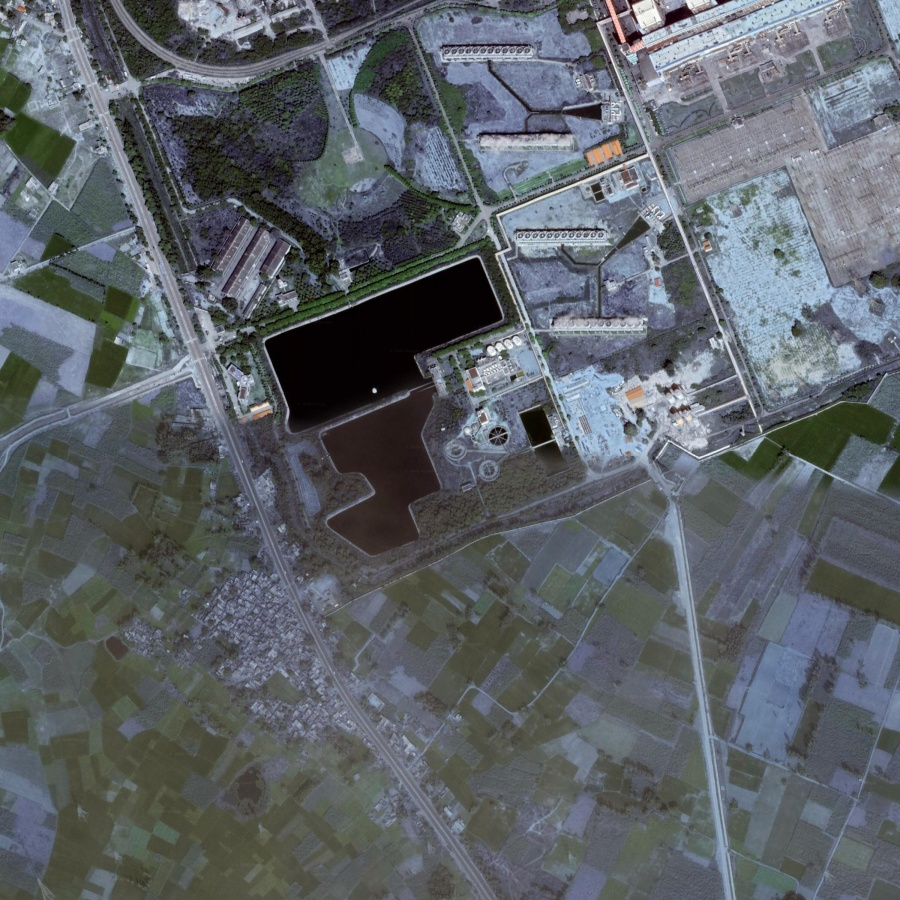PowerPlant: (244, 248, 514, 476)
